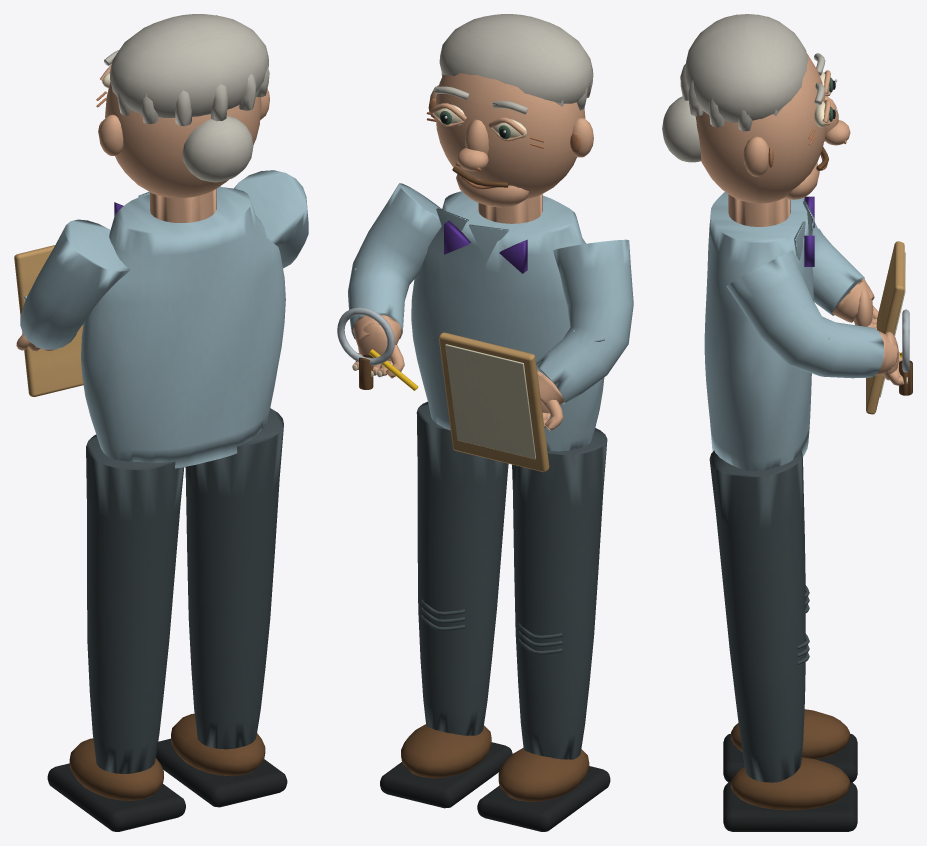
The model's file is NPC_Judge1.gltf.
The picture shows the model from 3 angles, left to right: view 1: azimuth 30°, elevation 25°; view 2: azimuth 150°, elevation 25°; view 3: azimuth 270°, elevation 25°; orthographic projection. The views are drawn at different scales.
Visible parts, largest first — view 1: NPC_Judge1__Body, NPC_Judge1__Head; view 2: NPC_Judge1__Body, NPC_Judge1__Head; view 3: NPC_Judge1__Body, NPC_Judge1__Head.
Part boxes in pixels (<box>): NPC_Judge1__Body: <box>14,170,308,831</box>; NPC_Judge1__Head: <box>96,14,269,198</box>; NPC_Judge1__Body: <box>337,183,633,831</box>; NPC_Judge1__Head: <box>426,14,593,207</box>; NPC_Judge1__Body: <box>704,192,912,831</box>; NPC_Judge1__Head: <box>662,14,850,203</box>.
Size of the model in its own units: 0.56 by 1.51 by 0.448.
1 material, 1 textured.
